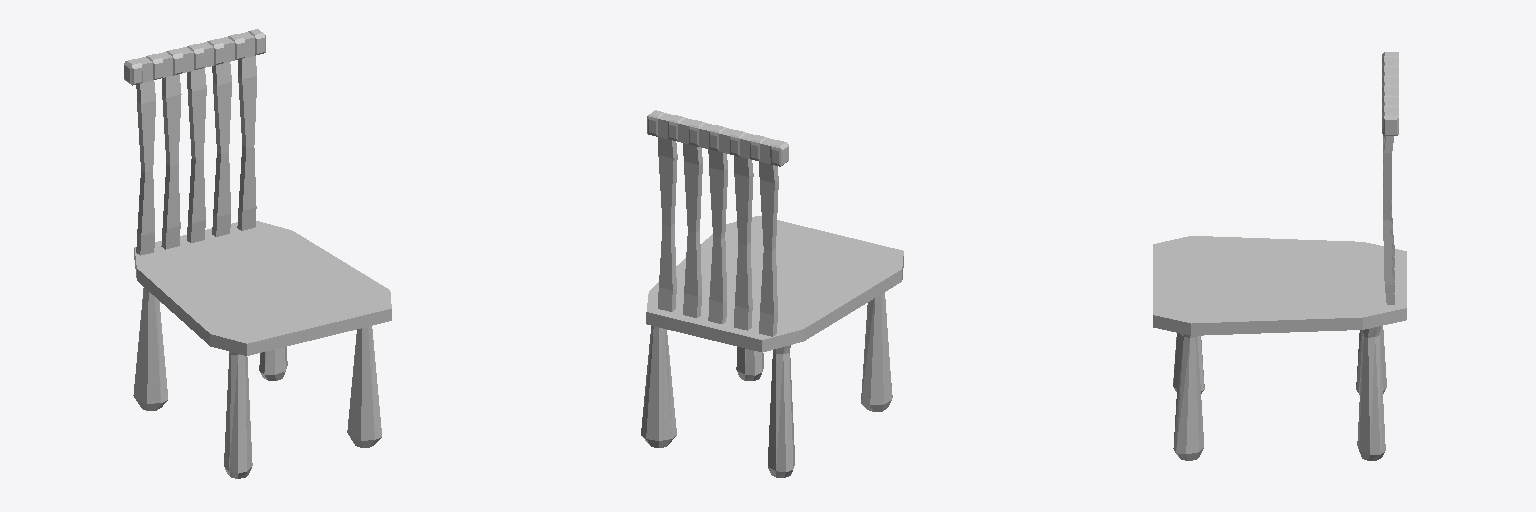
The model's file is lab3chair2.obj.
3 views of the same model, side by side, from view 1: azimuth 30°, elevation 25°; view 2: azimuth 150°, elevation 25°; view 3: azimuth 270°, elevation 25° (orthographic).
Parts seen in each view (by area): view 1: ChairSeat, ChairSeat Chairback_3 Chairback_2 chairback_5 chairback_4 Chairb, ChairSeat Chairleg3 Chairleg4 Chairleg2 Chairleg1, ChairSeat Chairtop; view 2: ChairSeat, ChairSeat Chairback_3 Chairback_2 chairback_5 chairback_4 Chairb, ChairSeat Chairleg3 Chairleg4 Chairleg2 Chairleg1, ChairSeat Chairtop; view 3: ChairSeat, ChairSeat Chairleg3 Chairleg4 Chairleg2 Chairleg1, ChairSeat Chairback_3 Chairback_2 chairback_5 chairback_4 Chairb, ChairSeat Chairtop.
Boxes of the visible parts, x1=… form: ChairSeat: x1=134, y1=221, x2=391, y2=355; ChairSeat Chairback_3 Chairback_2 chairback_5 chairback_4 Chairb: x1=136, y1=56, x2=256, y2=255; ChairSeat Chairleg3 Chairleg4 Chairleg2 Chairleg1: x1=133, y1=287, x2=381, y2=478; ChairSeat Chairtop: x1=124, y1=29, x2=265, y2=85; ChairSeat: x1=646, y1=216, x2=903, y2=352; ChairSeat Chairback_3 Chairback_2 chairback_5 chairback_4 Chairb: x1=658, y1=137, x2=778, y2=336; ChairSeat Chairleg3 Chairleg4 Chairleg2 Chairleg1: x1=641, y1=292, x2=892, y2=477; ChairSeat Chairtop: x1=647, y1=110, x2=788, y2=166; ChairSeat: x1=1153, y1=236, x2=1406, y2=335; ChairSeat Chairleg3 Chairleg4 Chairleg2 Chairleg1: x1=1173, y1=326, x2=1386, y2=460; ChairSeat Chairback_3 Chairback_2 chairback_5 chairback_4 Chairb: x1=1383, y1=136, x2=1394, y2=304; ChairSeat Chairtop: x1=1382, y1=52, x2=1398, y2=135.
Bounding box in the file's own units: 5.69 × 10.26 × 6.96.